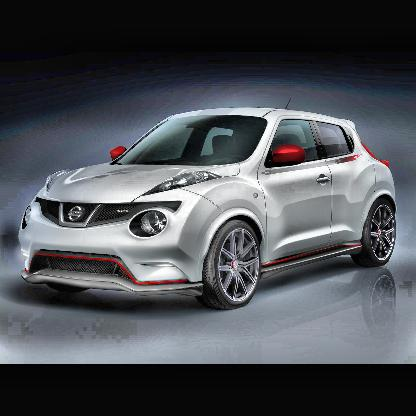Nissan Juke Hatchback 2012: (20, 107, 399, 309)
